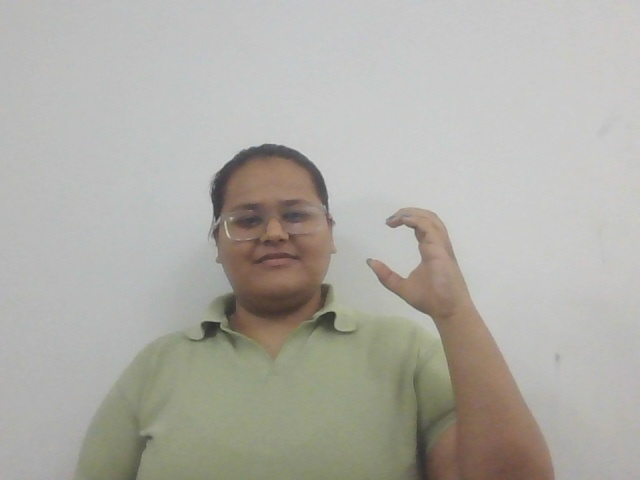C: (363, 205, 469, 319)
